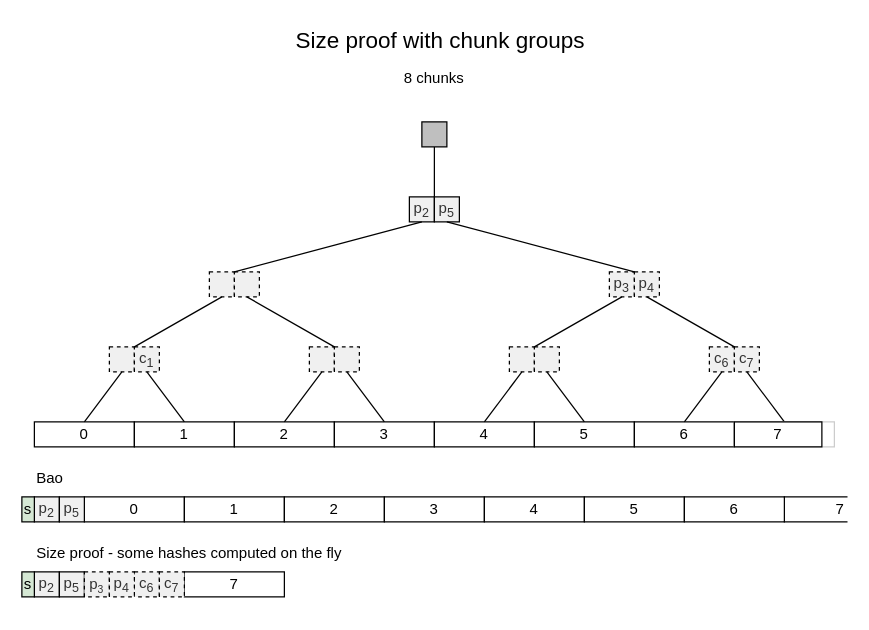
This 869x630 diagram has some shape labels left out. Here are the shapes that lost their labels. From the top down, the box of each, then its label:
(421, 121, 447, 147): p 6
(208, 271, 234, 297): p 0
(233, 271, 259, 297): p 1
(108, 346, 134, 372): c 0
(308, 346, 334, 372): c 2
(333, 346, 359, 372): c 3
(508, 346, 534, 372): c 4
(533, 346, 559, 372): c 5
